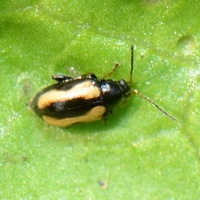insect: (30, 45, 132, 126)
